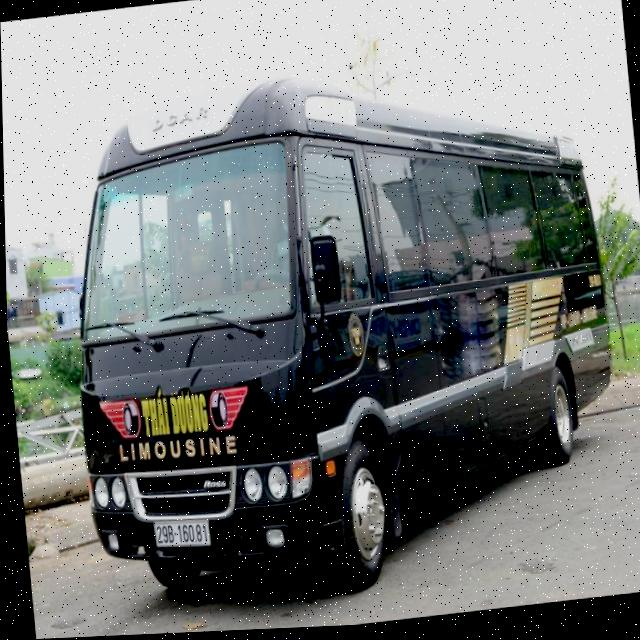car: (43, 37, 635, 627)
plate: (150, 511, 214, 555)
